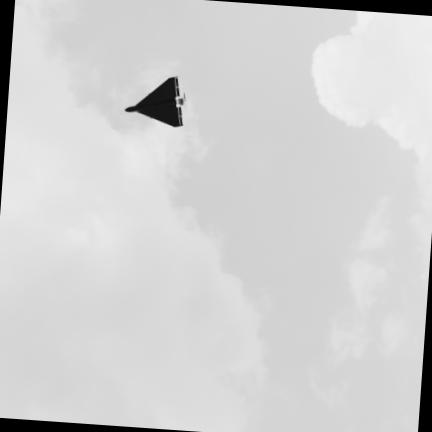Shahed: (125, 76, 183, 125)
